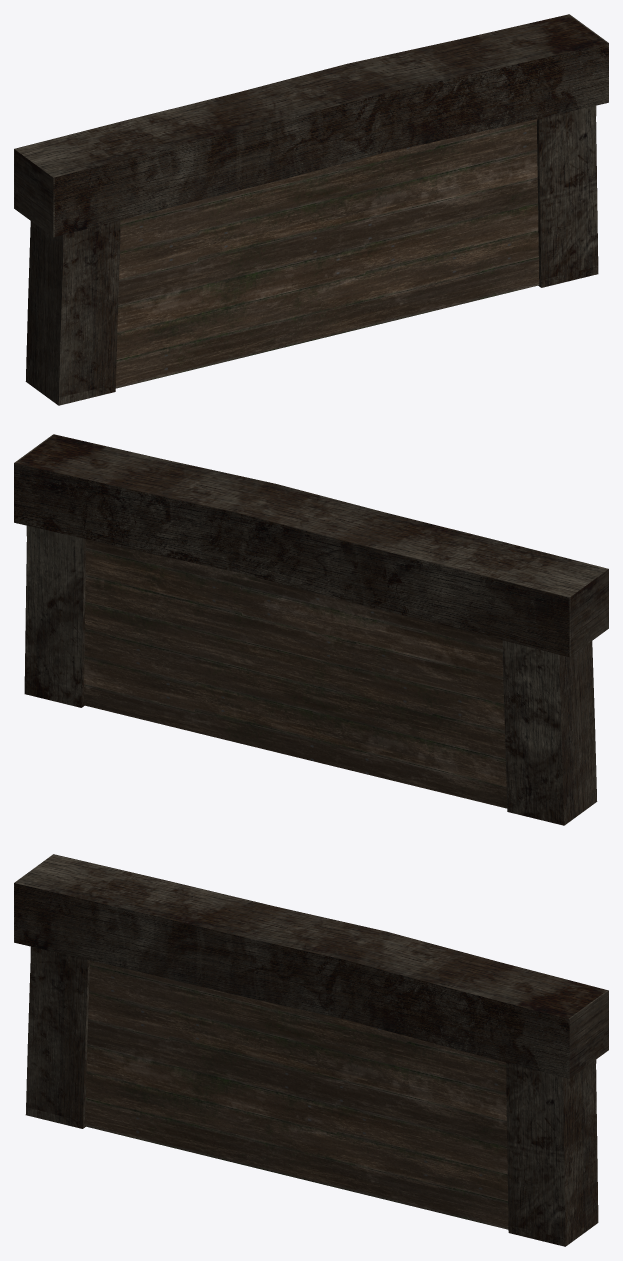
Rendered from ShortWoodWall2.fbx.
The picture shows the model from 3 angles, top to bottom: view 1: azimuth 30°, elevation 25°; view 2: azimuth 150°, elevation 25°; view 3: azimuth 330°, elevation 25°; orthographic projection.
Visible parts, largest first — view 1: Wood Wall Short 3m; view 2: Wood Wall Short 3m; view 3: Wood Wall Short 3m.
Part boxes in pixels (bbox=[...]): Wood Wall Short 3m: bbox=[14, 14, 608, 405]; Wood Wall Short 3m: bbox=[14, 434, 608, 825]; Wood Wall Short 3m: bbox=[14, 854, 608, 1246].
Size of the model in its own units: 330 by 134 by 40.57.
